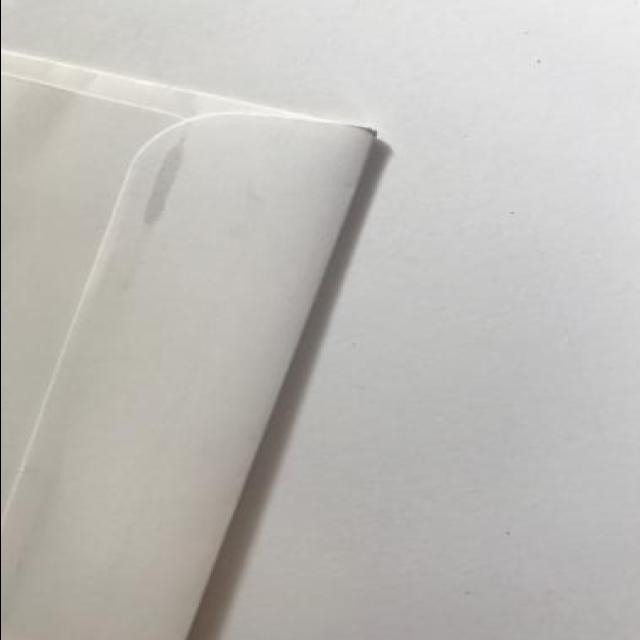kertas: (0, 42, 375, 640)
